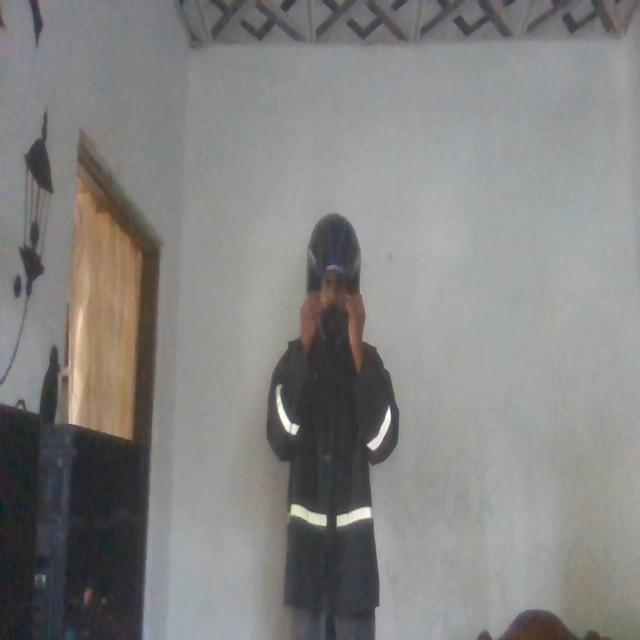Helmet_Wearer: (300, 210, 368, 352)
Jacket_Wearer: (268, 323, 393, 640)
Person: (260, 205, 402, 640)
